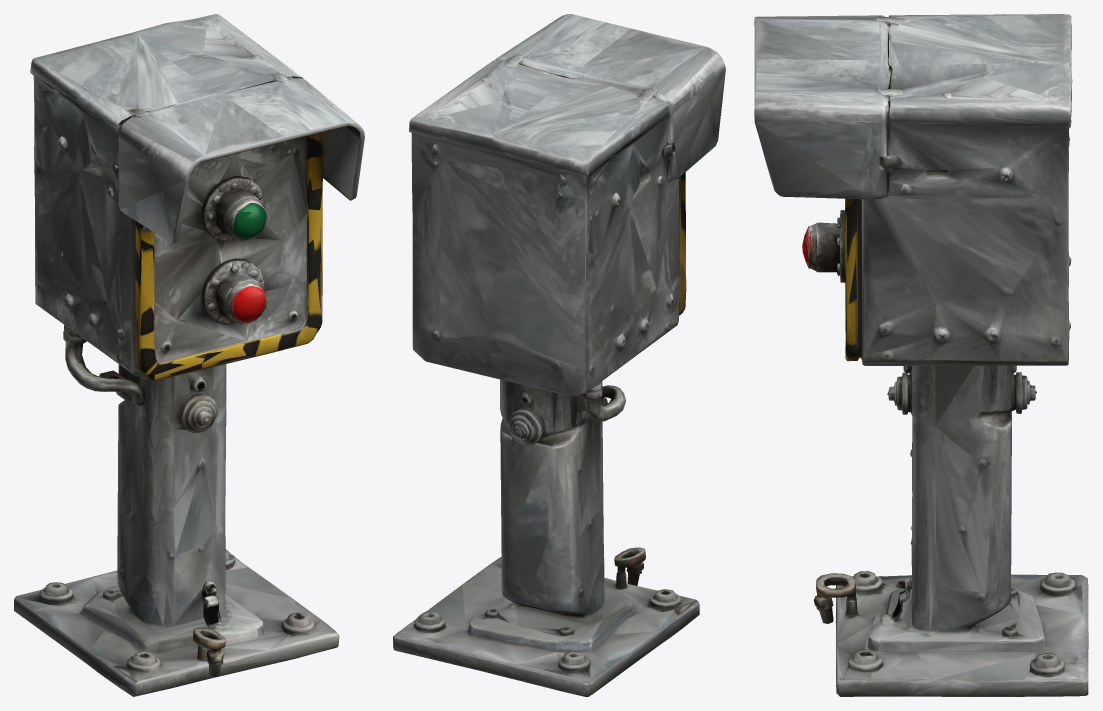
Rendered from gate_control_box_LOD1.fbx.
3 renders of one model, left to right at view 1: azimuth 30°, elevation 25°; view 2: azimuth 150°, elevation 25°; view 3: azimuth 270°, elevation 25°, orthographic. The views are drawn at different scales.
Visible parts, largest first — view 1: gate_control_box.001; view 2: gate_control_box.001; view 3: gate_control_box.001.
Boxes of the visible parts, bbox=[...] form: gate_control_box.001: bbox=[14, 14, 364, 696]; gate_control_box.001: bbox=[393, 14, 725, 696]; gate_control_box.001: bbox=[754, 14, 1088, 696].
Size of the model in its own units: 0.5259 by 1.35 by 0.6927.
Materials: 1 (1 with a texture image).
